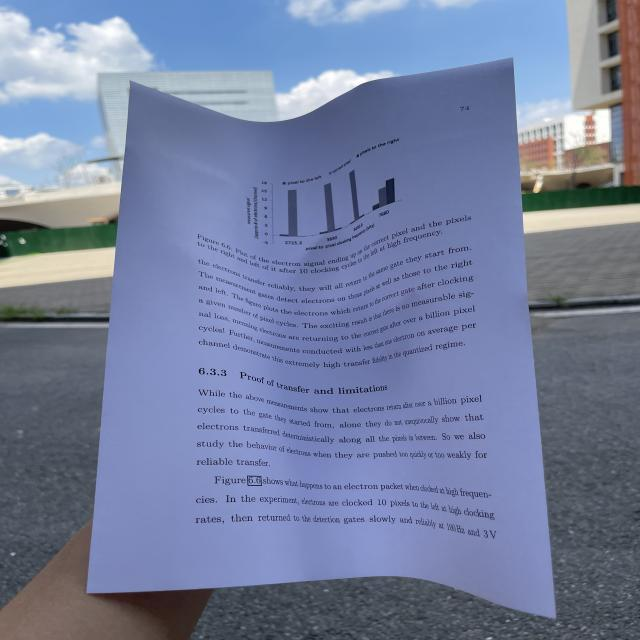document: (88, 60, 555, 618)
